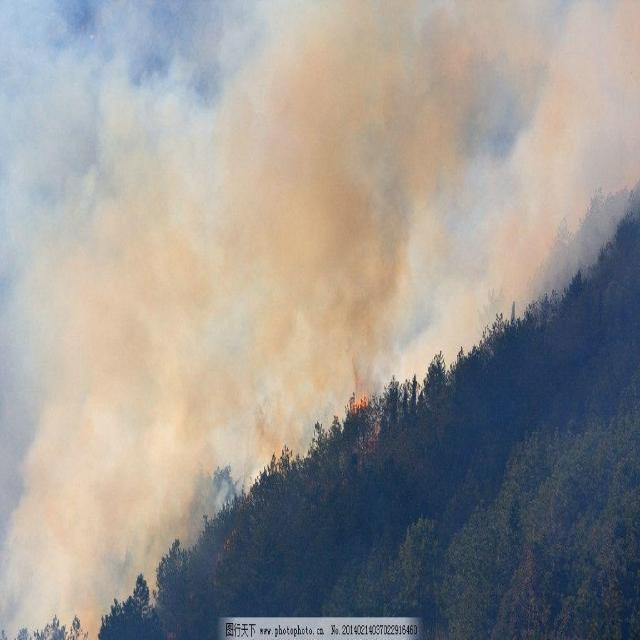Smoke: (224, 0, 572, 457), (0, 0, 224, 639)
